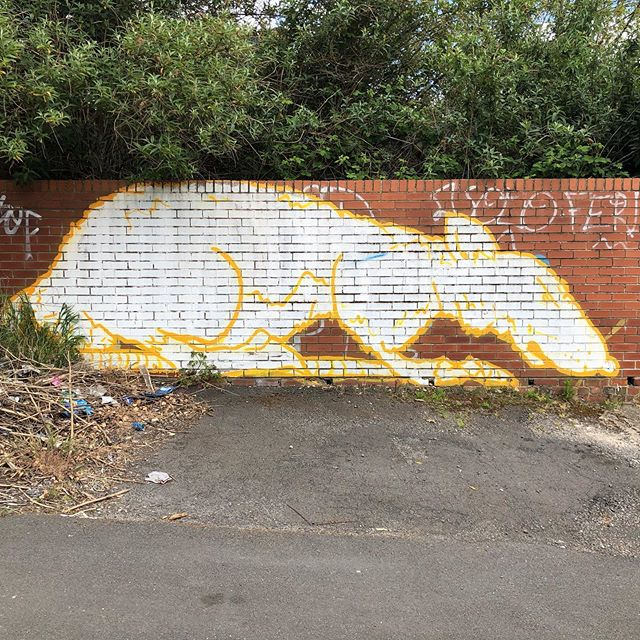graffiti: (10, 181, 608, 395)
vegetation: (1, 1, 616, 172)
